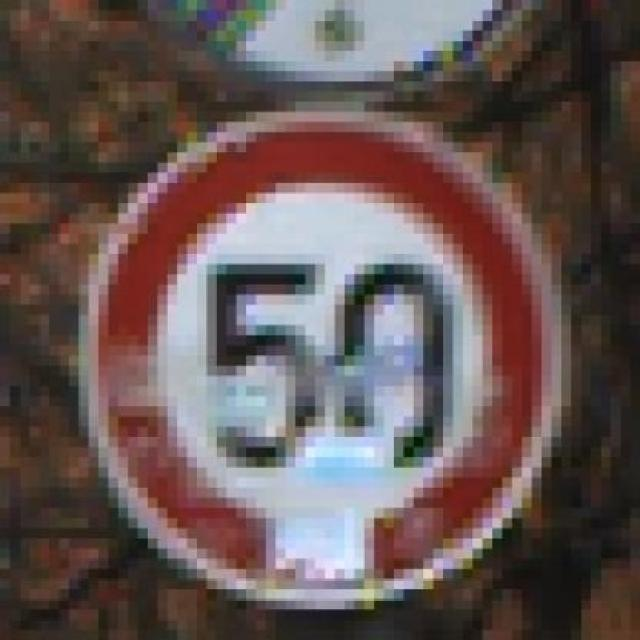forb_speed_over_50: (92, 111, 550, 604)
